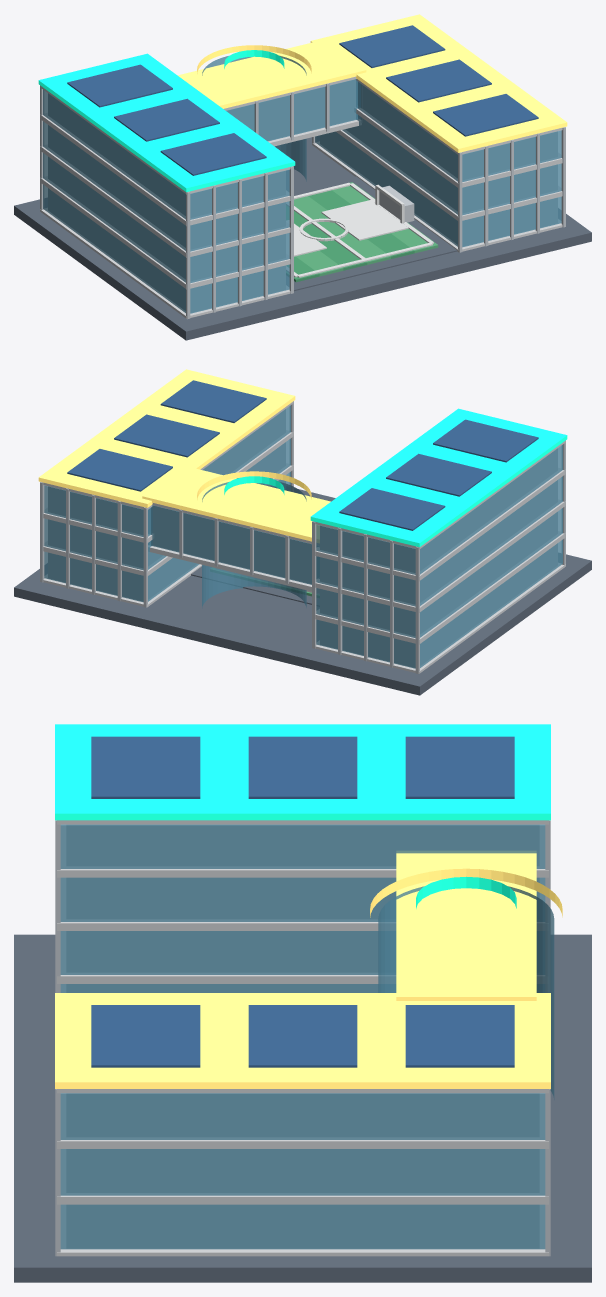
Rendered from academy_complex.master.glb.
3 views of the same model, one above another, from view 1: azimuth 30°, elevation 25°; view 2: azimuth 150°, elevation 25°; view 3: azimuth 270°, elevation 25° (orthographic). The views are drawn at different scales.
Visible parts, largest first — view 1: academy_complex_master; view 2: academy_complex_master; view 3: academy_complex_master.
Part boxes in pixels (box(x1,y1,x2,y2)): academy_complex_master: box(14, 14, 591, 340); academy_complex_master: box(14, 369, 591, 695); academy_complex_master: box(14, 724, 591, 1282).
Bounding box in the file's own units: 3.76 × 1.25 × 2.76.
